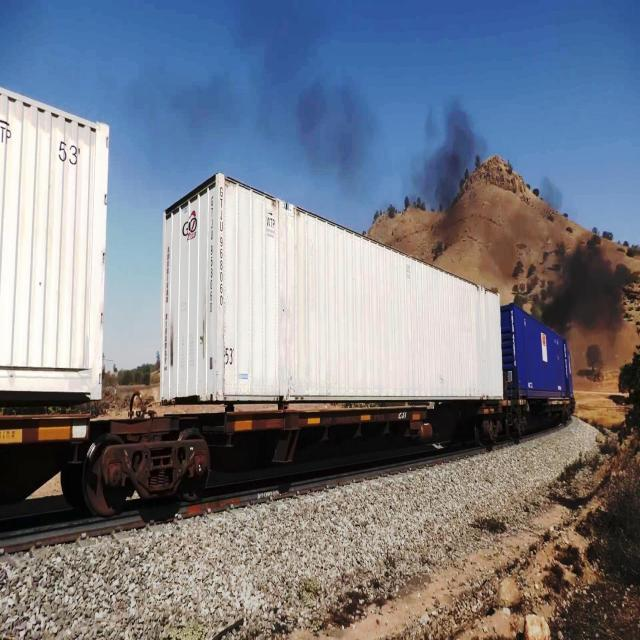Smoke: (550, 244, 627, 340)
